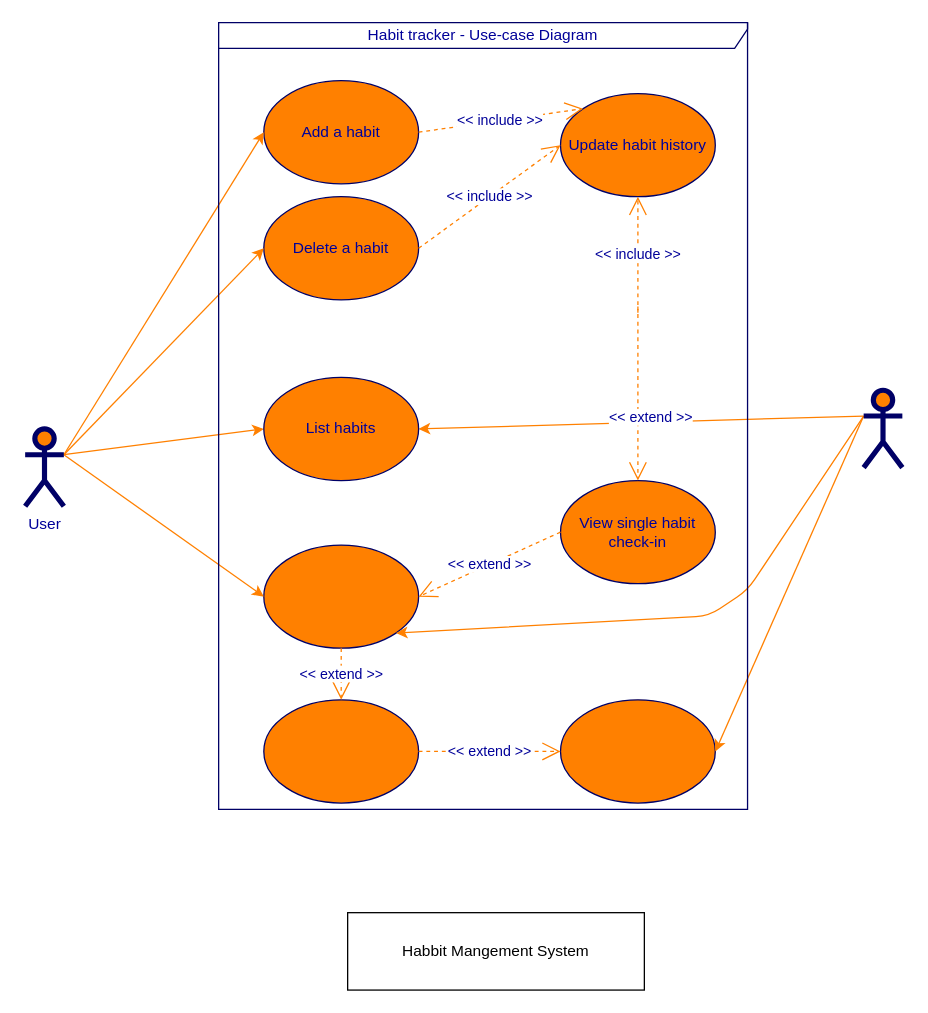
This 928x1013 diagram has some shape labels left out. The box of each missing label's shape, as (x1, y1, x2, y2) in pixels:
Coach: (860, 387, 904, 470)
List all users: (559, 699, 715, 803)
View habit history: (263, 544, 419, 648)
View one user's habits: (263, 699, 419, 803)
